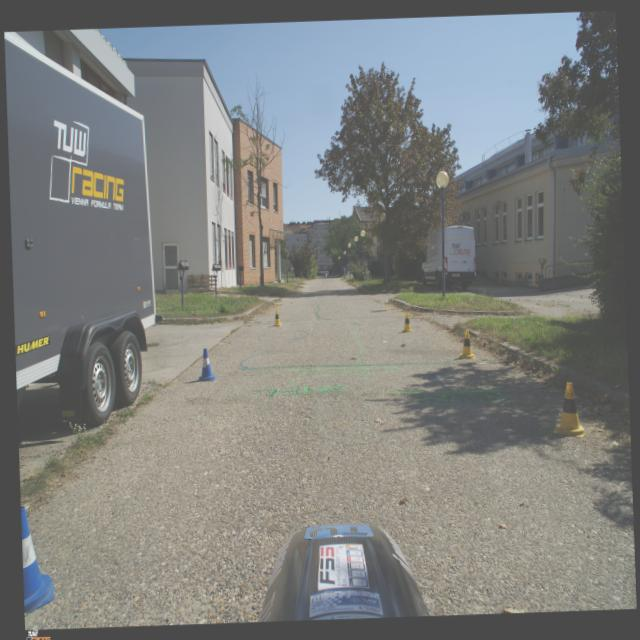blue_cone: (20, 504, 54, 614), (196, 348, 217, 382)
yellow_cone: (552, 381, 584, 438), (458, 329, 475, 359), (399, 312, 414, 332), (272, 308, 282, 326)
